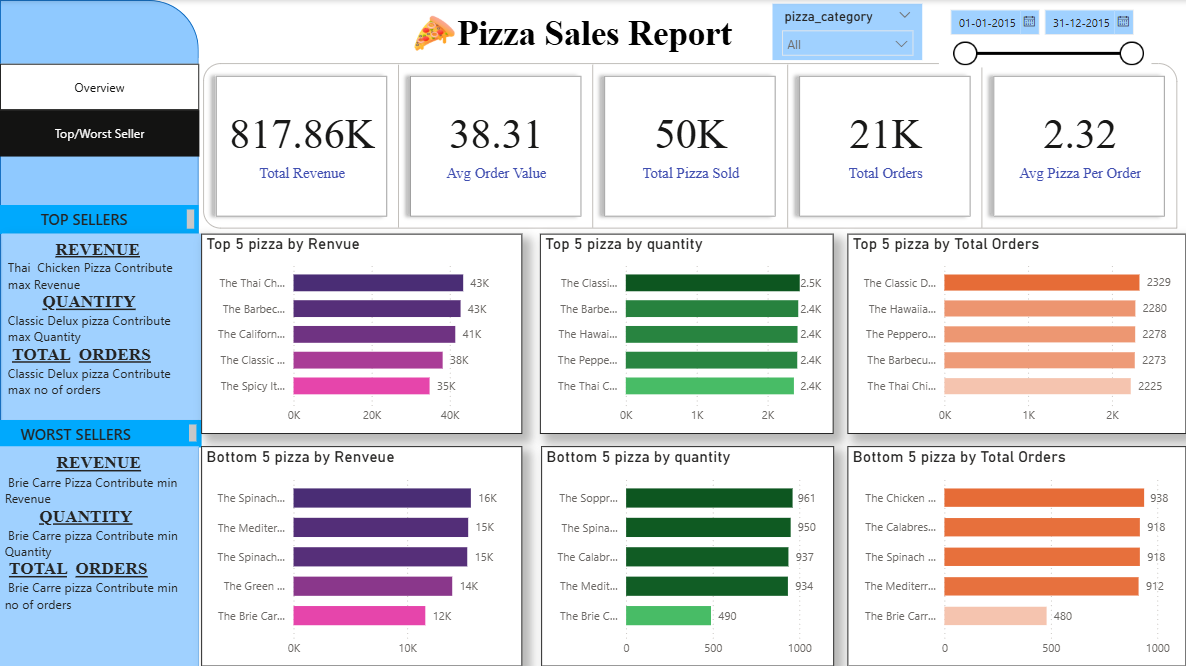

What the dashboard file says about the page in this screenshot:
{"tool":"powerbi","page":{"name":"Best/Worst Seller","canvas":[1280,720],"ordinal":1},"visuals":[{"type":"shape","box":[0,0,214.5,720.4],"z":0},{"type":"cardVisual","fields":{"Data":["pizza_sales.Total Revenue","pizza_sales.Avg Order Value","pizza_sales.Total Pizza Sold","pizza_sales.Total Orders","pizza_sales.Avg Pizza Per Order"]},"box":[214.5,63.4,1065.8,188.9],"z":1000},{"type":"textbox","box":[488.4,9.4,309.6,55.4],"z":2000},{"type":"image","box":[428.8,9.4,80.5,53.3],"z":3000},{"type":"textbox","box":[0,221.2,214.5,31],"z":4000},{"type":"textbox","box":[2.7,252.3,214.5,201],"z":5000},{"type":"textbox","box":[0,453.3,217.2,29.7],"z":6000},{"type":"textbox","box":[0,481.6,214.5,238.8],"z":7000},{"type":"slicer","fields":{"Values":["pizza_sales.pizza_category"]},"box":[833.7,4,161.9,60.7],"z":8000},{"type":"slicer","fields":{"Values":["pizza_sales.order_date"]},"box":[1013.2,0,229.3,72.9],"z":9000},{"type":"barChart","title":"Top 5 pizza by Renvue ","fields":{"Y":["pizza_sales.Total Revenue"],"Category":["pizza_sales.pizza_name"]},"box":[217.2,252.3,346.7,215.9],"z":10000},{"type":"barChart","title":"Bottom 5 pizza by Renveue","fields":{"Y":["pizza_sales.Total Revenue"],"Category":["pizza_sales.pizza_name"]},"box":[217.2,481.6,346.7,237.4],"z":11000},{"type":"barChart","title":"Top 5 pizza by quantity","fields":{"Category":["pizza_sales.pizza_name"],"Y":["pizza_sales.Total Pizza Sold"]},"box":[582.8,252.3,317,215.9],"z":12000},{"type":"barChart","title":"Bottom 5 pizza by quantity","fields":{"Category":["pizza_sales.pizza_name"],"Y":["pizza_sales.Total Pizza Sold"]},"box":[584.2,481.6,315.7,237.4],"z":13000},{"type":"barChart","title":"Top 5 pizza by Total Orders","fields":{"Y":["pizza_sales.Total Orders"],"Category":["pizza_sales.pizza_name"]},"box":[914.7,252.3,365.6,215.9],"z":14000},{"type":"barChart","title":"Bottom 5 pizza by Total Orders","fields":{"Y":["pizza_sales.Total Orders"],"Category":["pizza_sales.pizza_name"]},"box":[914.7,481.6,365.6,237.4],"z":15000},{"type":"pageNavigator","box":[0,118.3,215,50],"z":16000},{"type":"pageNavigator","box":[0,68.3,215,50],"z":17000}]}

Visuals, with their boxes in screenshot pixels (x1, y1, x2, y2), scaled from the page's 1280x720 canvas onto the 1186x666 screenshot:
shape: (x1=0, y1=0, x2=199, y2=665)
cardVisual - pizza_sales.Total Revenue x pizza_sales.Avg Order Value: (x1=199, y1=59, x2=1185, y2=233)
textbox: (x1=453, y1=9, x2=739, y2=60)
image: (x1=397, y1=9, x2=472, y2=58)
textbox: (x1=0, y1=205, x2=199, y2=233)
textbox: (x1=3, y1=233, x2=201, y2=419)
textbox: (x1=0, y1=419, x2=201, y2=447)
textbox: (x1=0, y1=445, x2=199, y2=665)
slicer - pizza_sales.pizza_category: (x1=772, y1=4, x2=922, y2=60)
slicer - pizza_sales.order_date: (x1=939, y1=0, x2=1151, y2=67)
"Top 5 pizza by Renvue " barChart: (x1=201, y1=233, x2=522, y2=433)
"Bottom 5 pizza by Renveue" barChart: (x1=201, y1=445, x2=522, y2=665)
"Top 5 pizza by quantity" barChart: (x1=540, y1=233, x2=834, y2=433)
"Bottom 5 pizza by quantity" barChart: (x1=541, y1=445, x2=834, y2=665)
"Top 5 pizza by Total Orders" barChart: (x1=848, y1=233, x2=1185, y2=433)
"Bottom 5 pizza by Total Orders" barChart: (x1=848, y1=445, x2=1185, y2=665)
pageNavigator: (x1=0, y1=109, x2=199, y2=156)
pageNavigator: (x1=0, y1=63, x2=199, y2=109)
